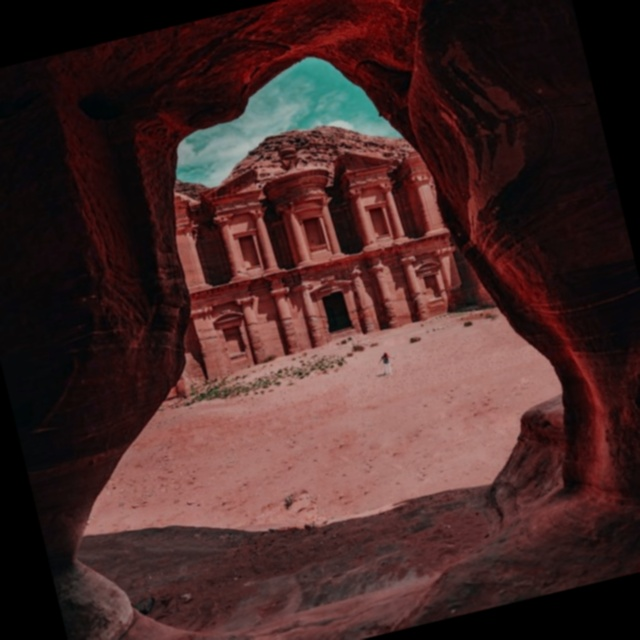oil_spill: (0, 354, 78, 640), (0, 0, 262, 84), (572, 0, 640, 272), (369, 574, 640, 640)
turbid_water: (13, 13, 627, 627), (74, 123, 630, 640)
